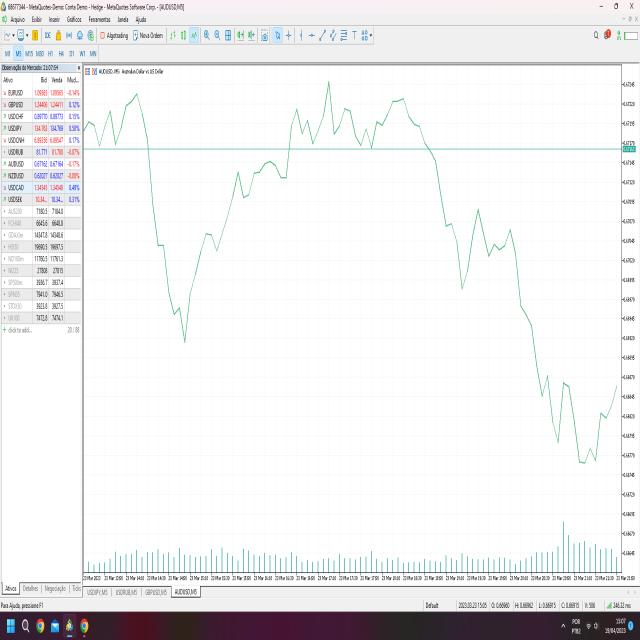oco: (286, 74, 362, 214)
